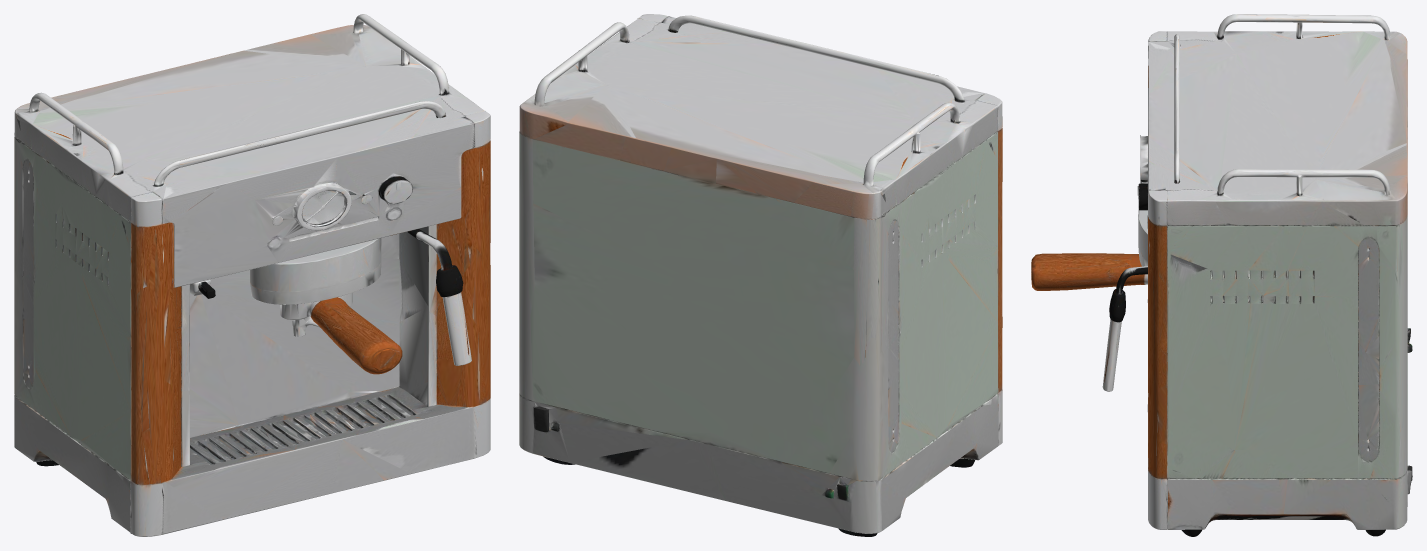
Rendered from espresso-machine.glb.
The picture shows the model from 3 angles, left to right: view 1: azimuth 30°, elevation 25°; view 2: azimuth 150°, elevation 25°; view 3: azimuth 270°, elevation 25°; orthographic projection. The views are drawn at different scales.
Parts seen in each view (by area): view 1: Mesh_0; view 2: Mesh_0; view 3: Mesh_0.
Part boxes in pixels (<box>): Mesh_0: <box>14,14,490,536</box>; Mesh_0: <box>519,14,1002,536</box>; Mesh_0: <box>1031,14,1412,536</box>.
Size of the model in its own units: 0.36 by 0.36 by 0.3399.
Materials: 1 (1 with a texture image).
